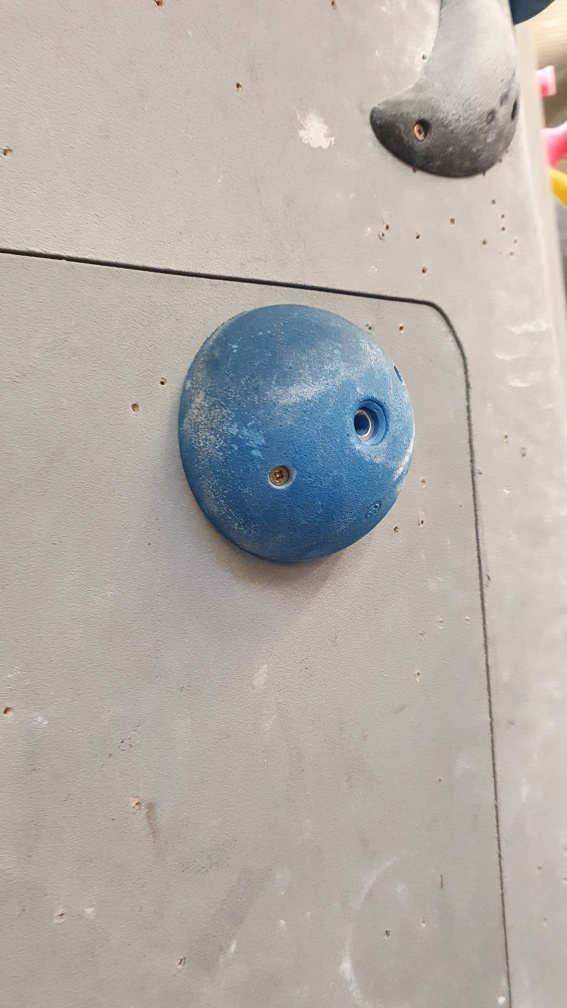Sloper: (175, 301, 420, 572)
